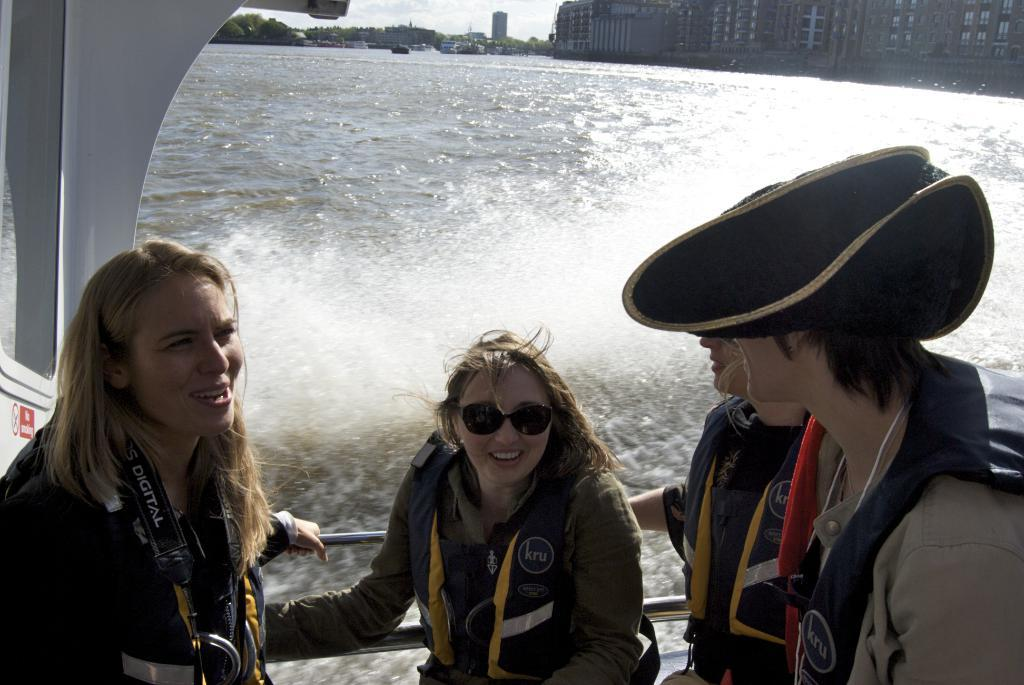Hat: (618, 140, 994, 339)
